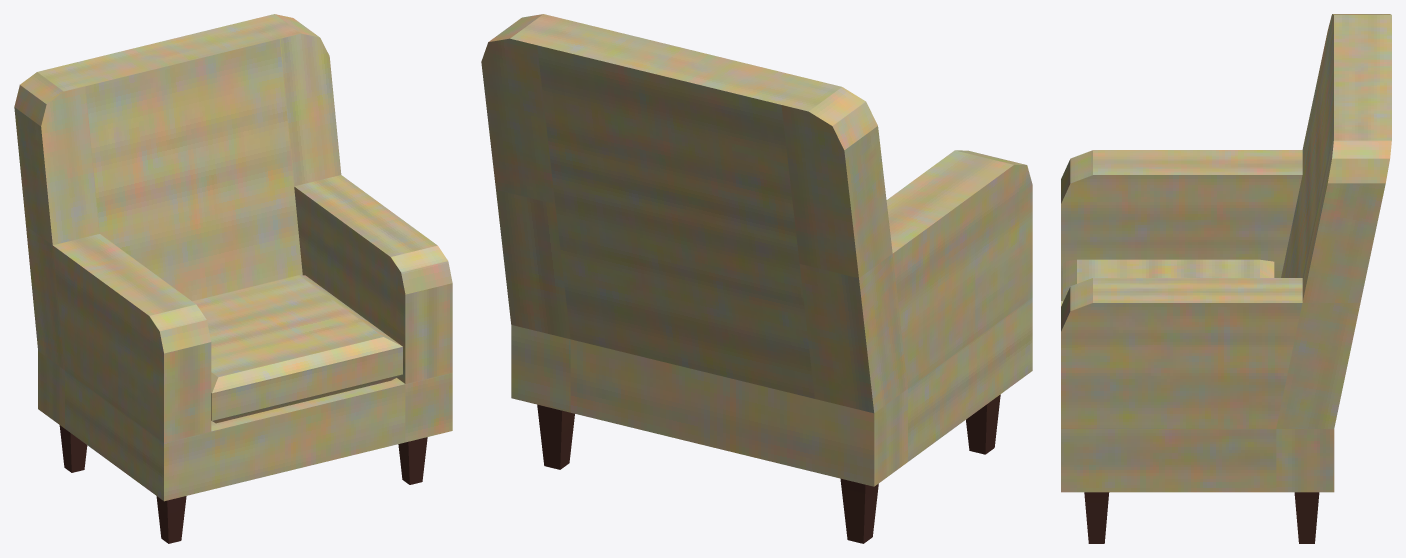
File: armchair-c4-webp.glb
The picture shows the model from 3 angles, left to right: view 1: azimuth 30°, elevation 25°; view 2: azimuth 150°, elevation 25°; view 3: azimuth 270°, elevation 25°; orthographic projection. The views are drawn at different scales.
Visible parts, largest first — view 1: Armchair, Armchair.001; view 2: Armchair, Armchair.001; view 3: Armchair, Armchair.001.
Boxes of the visible parts, x1=… form: Armchair: x1=14, y1=14, x2=452, y2=501; Armchair.001: x1=59, y1=425, x2=427, y2=543; Armchair: x1=481, y1=14, x2=1032, y2=486; Armchair.001: x1=537, y1=394, x2=1000, y2=543; Armchair: x1=1061, y1=14, x2=1391, y2=492; Armchair.001: x1=1084, y1=492, x2=1319, y2=543.
Size of the model in its own units: 0.5881 by 0.7162 by 0.5384.
Materials: 2 (2 with a texture image).
